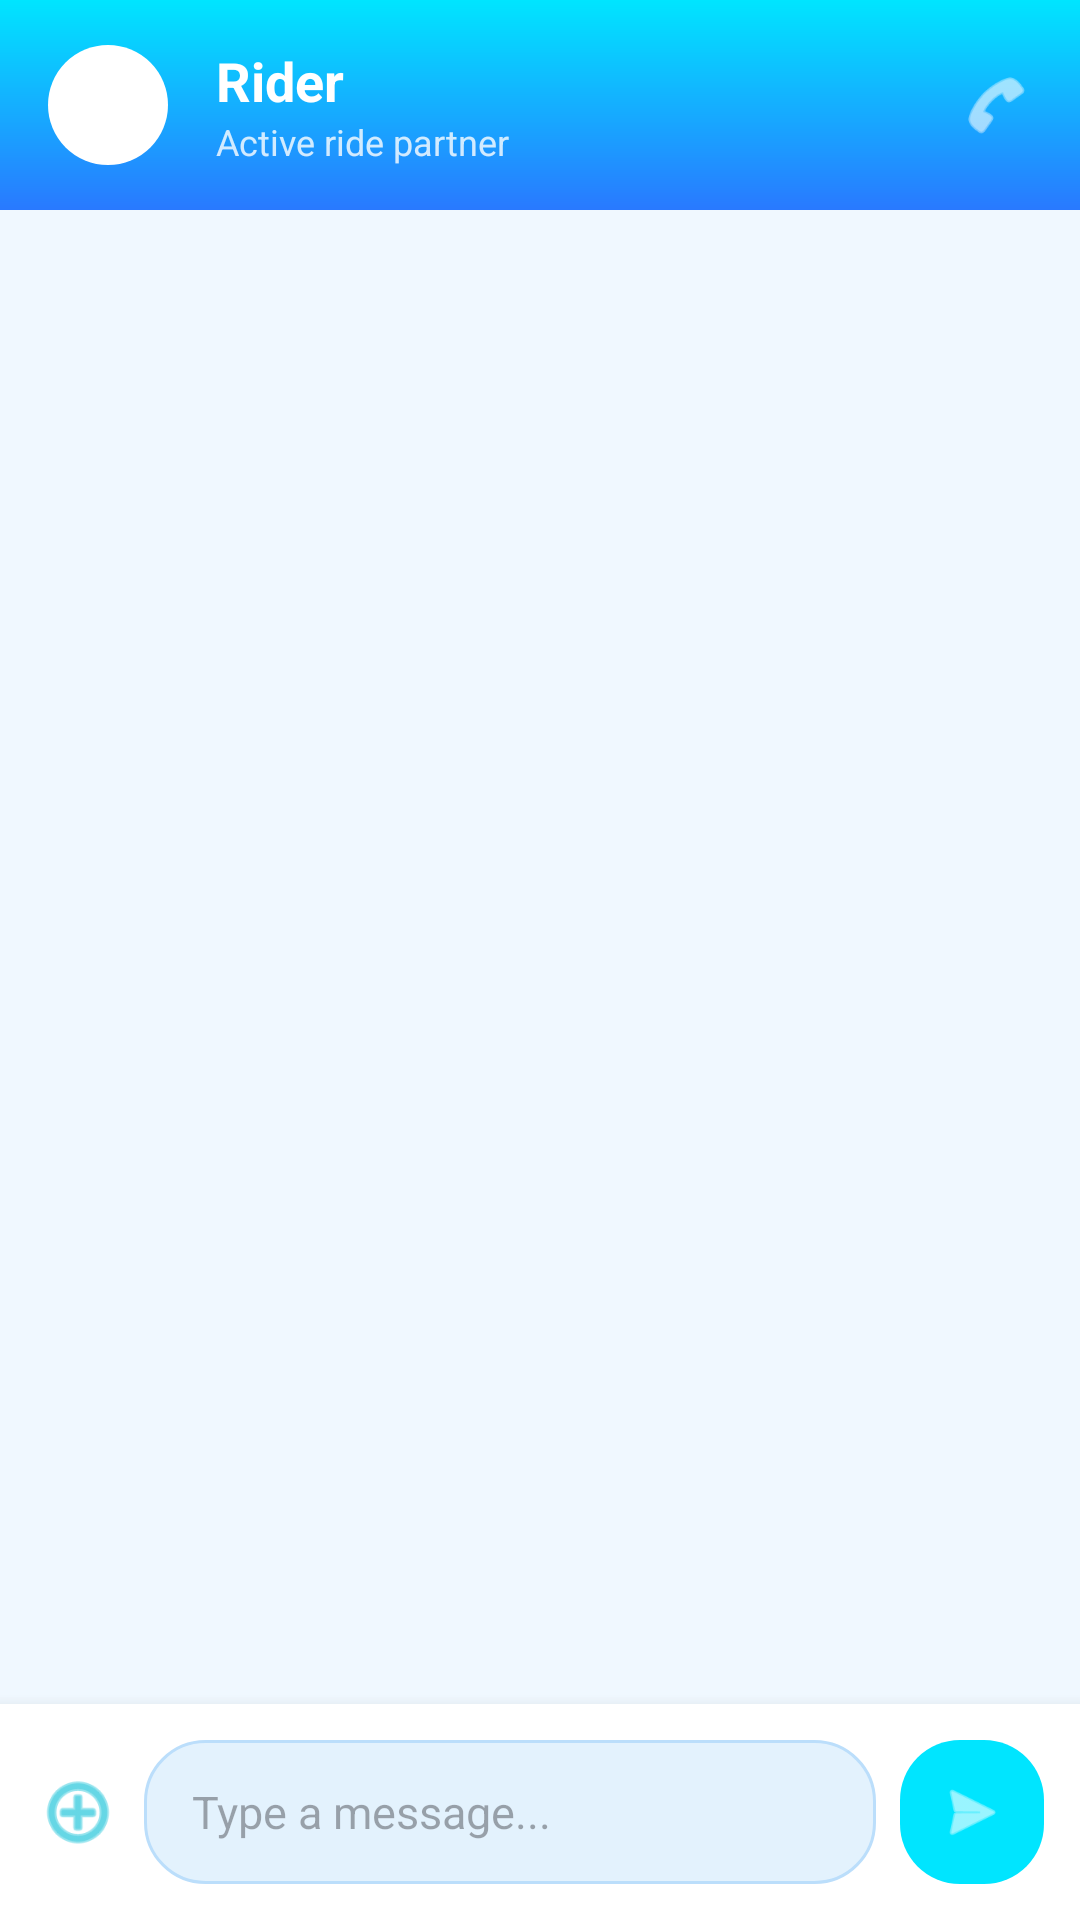

Icon click points for this 1080x1920 phone screenshot, format (x,y):
add: (78,1812)
call: (996,105)
send: (972,1812)
